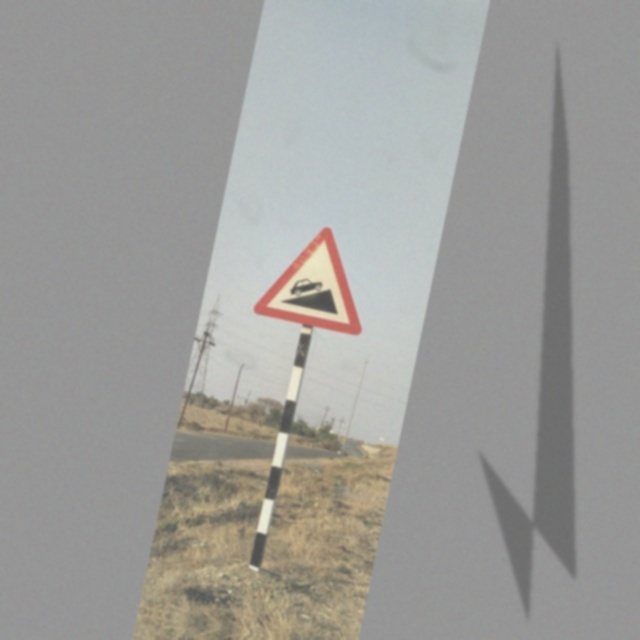Steep_Ascent: (255, 218, 383, 341)
